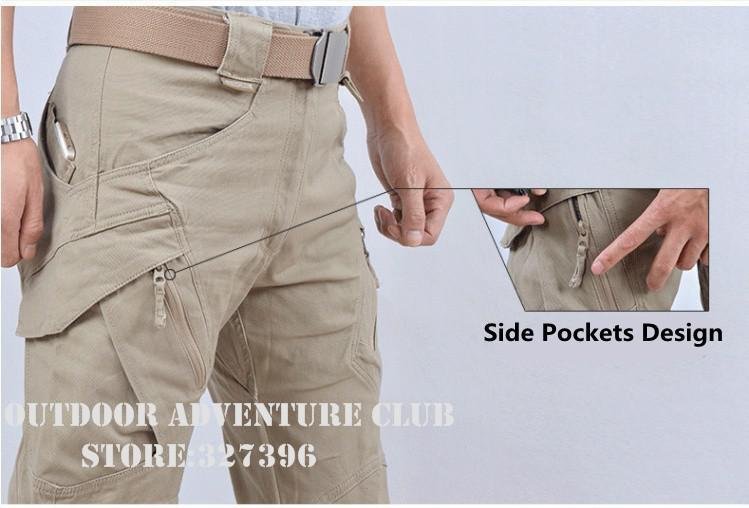pants: (24, 11, 384, 508)
